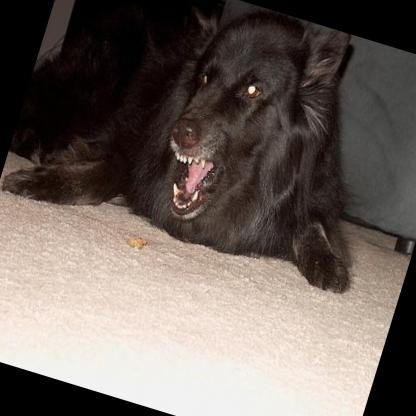groenendael: (0, 0, 416, 298)
